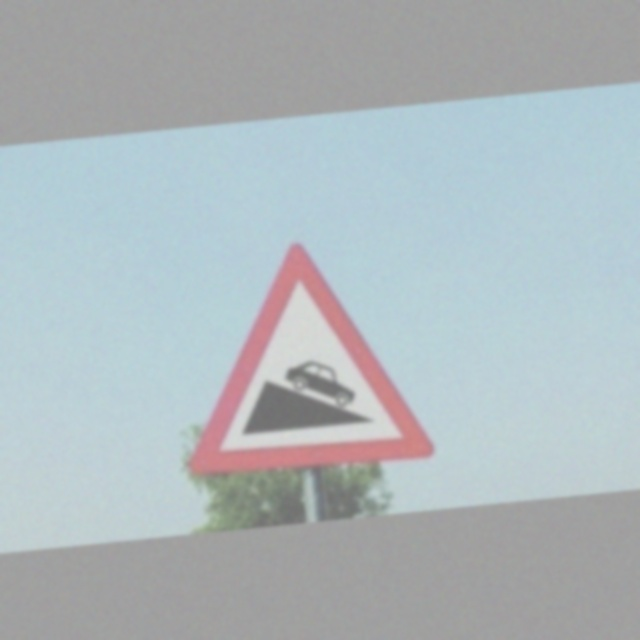Steep_Descent: (170, 231, 441, 489)
